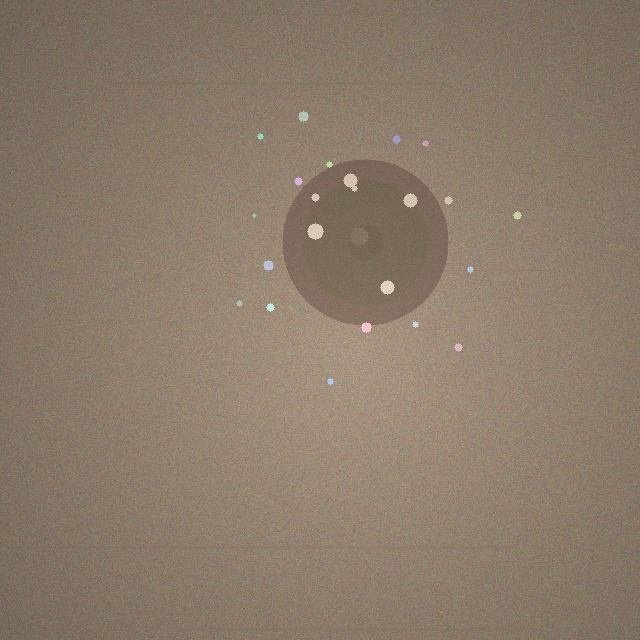overburn: (282, 159, 448, 325)
